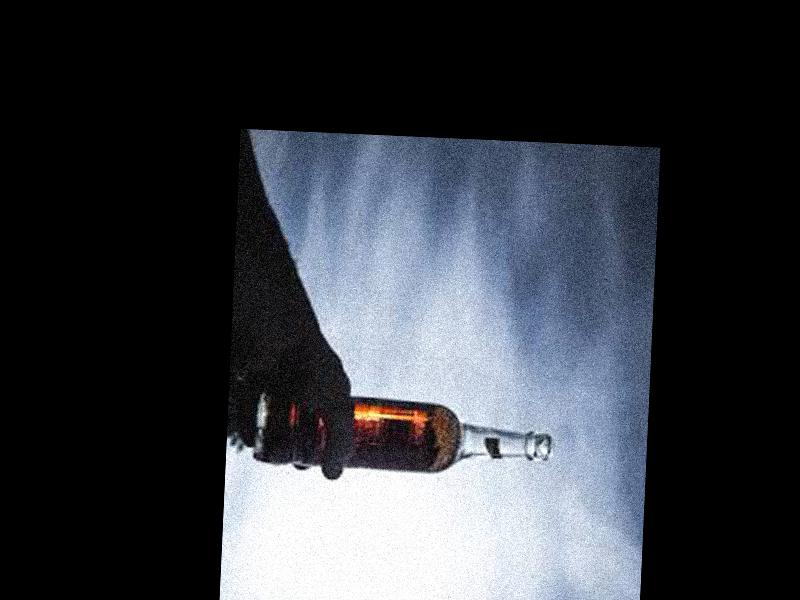Beer: (257, 392, 554, 474)
